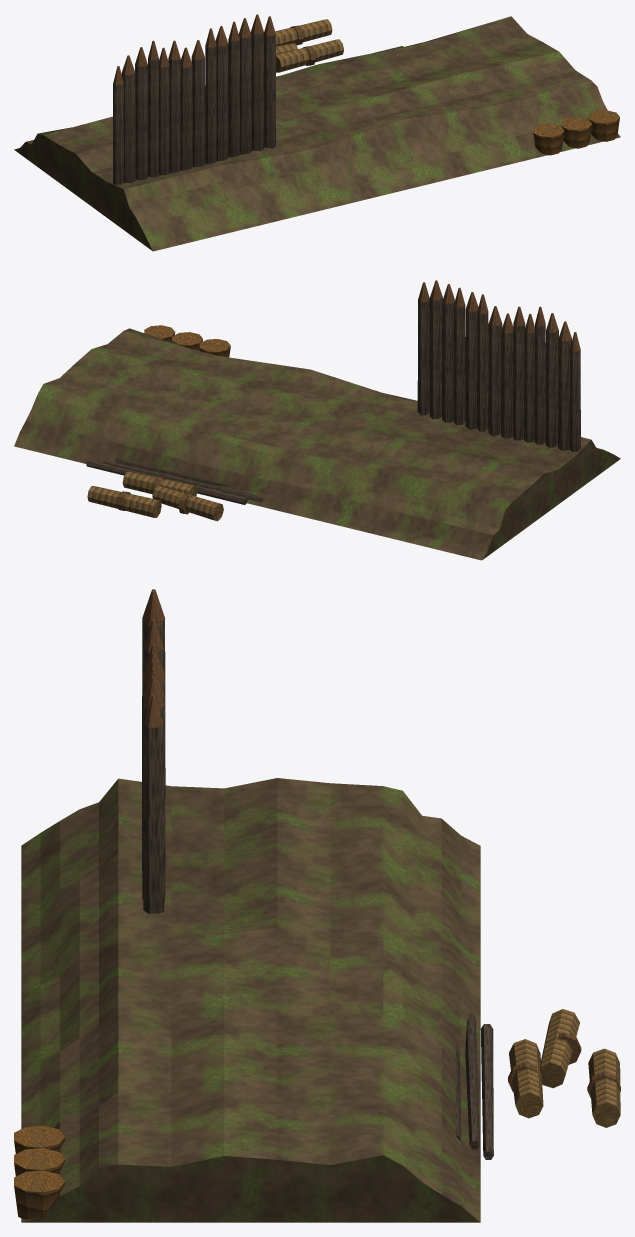
Rendered from cantiere_recinto_tratto.glb.
3 renders of one model, top to bottom at view 1: azimuth 30°, elevation 25°; view 2: azimuth 150°, elevation 25°; view 3: azimuth 270°, elevation 25°, orthographic. The views are drawn at different scales.
Visible parts, largest first — view 1: cantiere_recinto_tratto; view 2: cantiere_recinto_tratto; view 3: cantiere_recinto_tratto.
Boxes of the visible parts, bbox=[...] form: cantiere_recinto_tratto: bbox=[14, 14, 620, 251]; cantiere_recinto_tratto: bbox=[14, 280, 620, 560]; cantiere_recinto_tratto: bbox=[14, 589, 620, 1222].
Size of the model in its own units: 10.15 by 3.56 by 6.87.
Materials: 6 (6 with a texture image).
